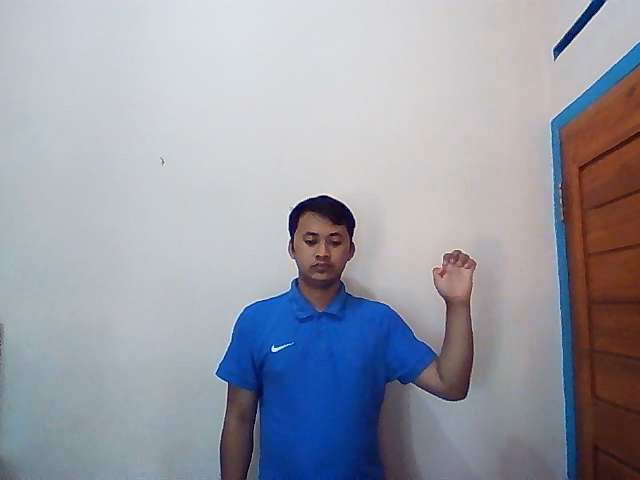E: (431, 250, 477, 301)
